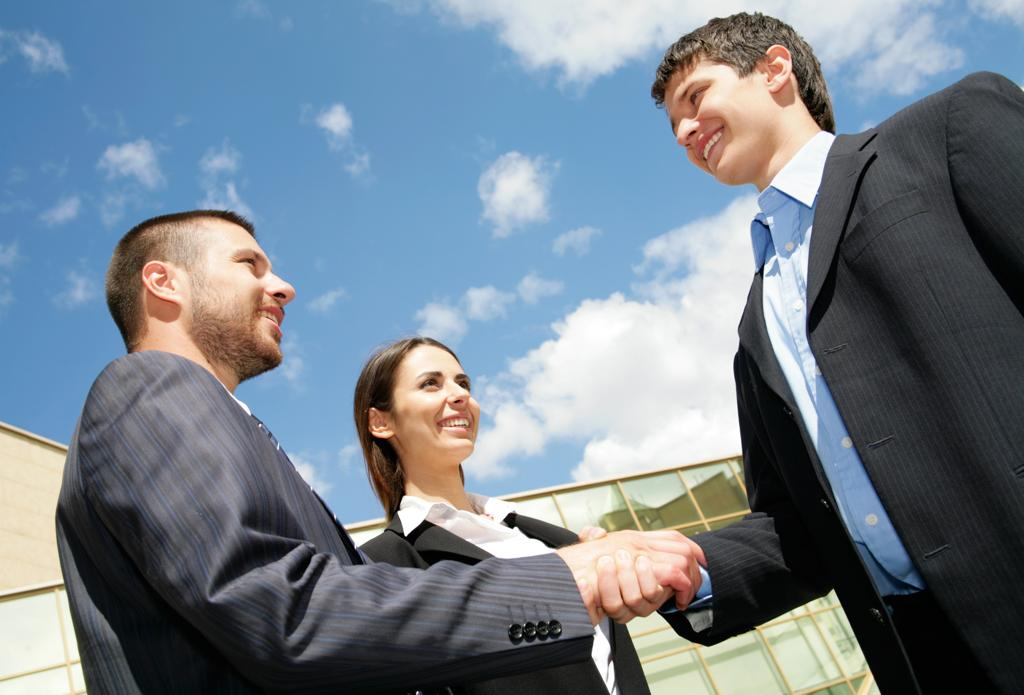face: (182, 220, 294, 364), (670, 58, 772, 182), (394, 346, 476, 458)
